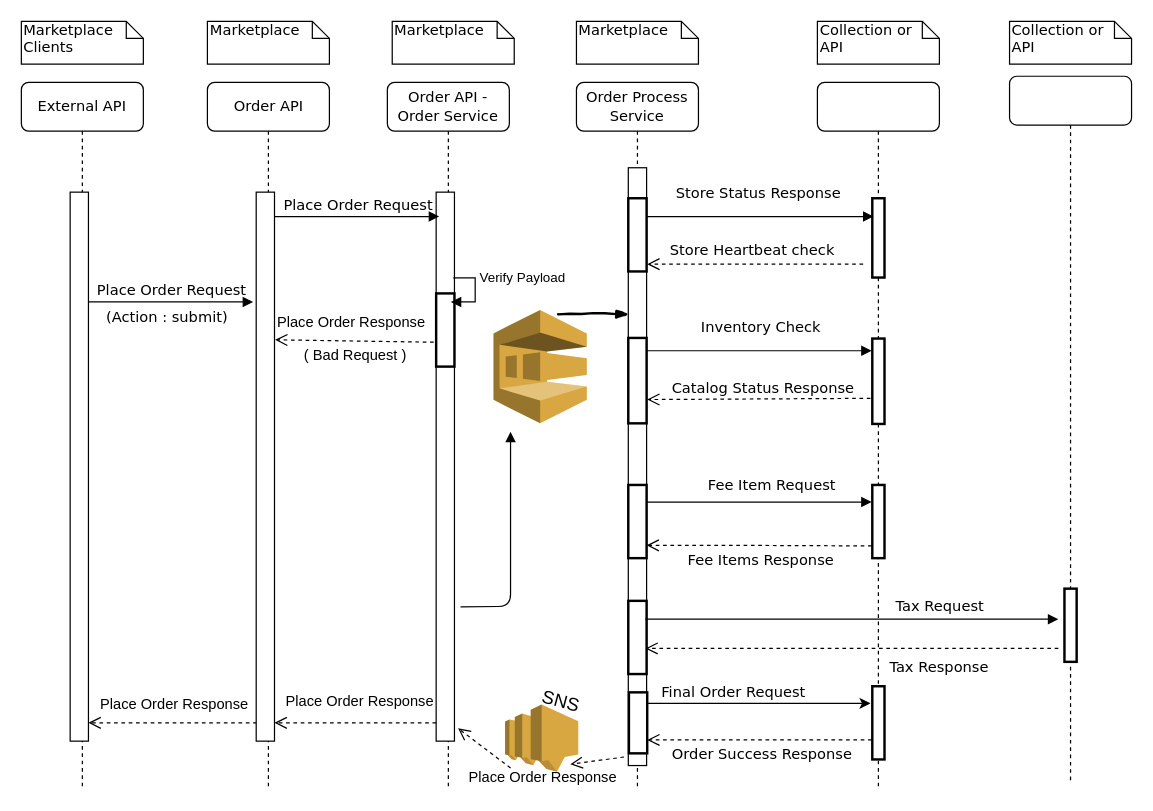
Some shapes in this 1153 by 811 pixel diagram are drawn without their labels. Each missing label, with the box of its shape:
7 Now: (816, 81, 939, 790)
One Source: (1008, 75, 1132, 784)
SQS: (492, 308, 587, 424)
